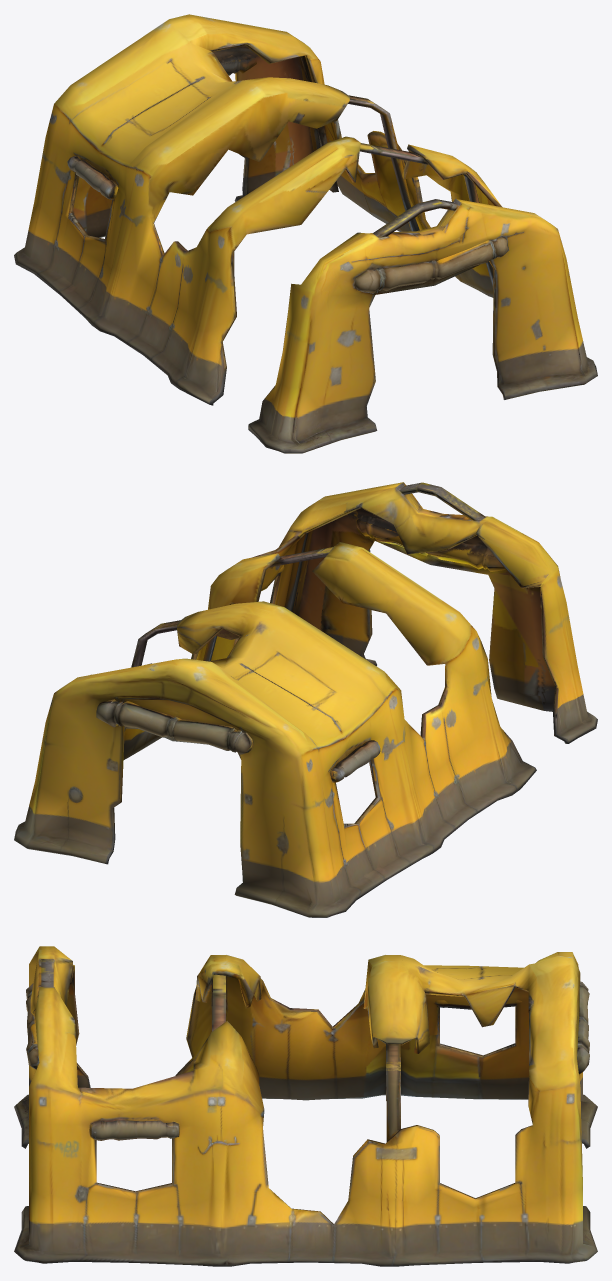
File: quarantine_tent.fbx
3 views of the same model, one above another, from view 1: azimuth 30°, elevation 25°; view 2: azimuth 150°, elevation 25°; view 3: azimuth 270°, elevation 25° (orthographic). The views are drawn at different scales.
Parts seen in each view (by area): view 1: input; view 2: input; view 3: input.
Part boxes in pixels (x1,y1,x2,y2): input: [14, 14, 597, 453]; input: [14, 482, 597, 917]; input: [14, 946, 597, 1266].
Size of the model in its own units: 142 by 82.86 by 200.
Materials: 1 (1 with a texture image).
